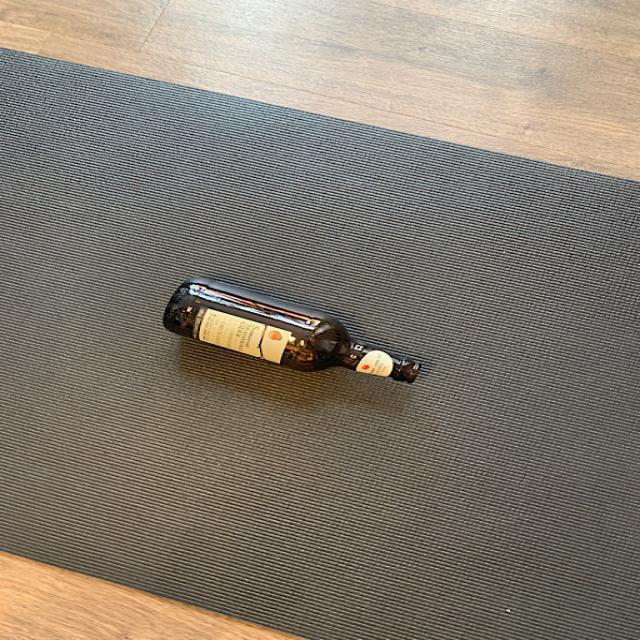litter: (154, 275, 430, 387)
